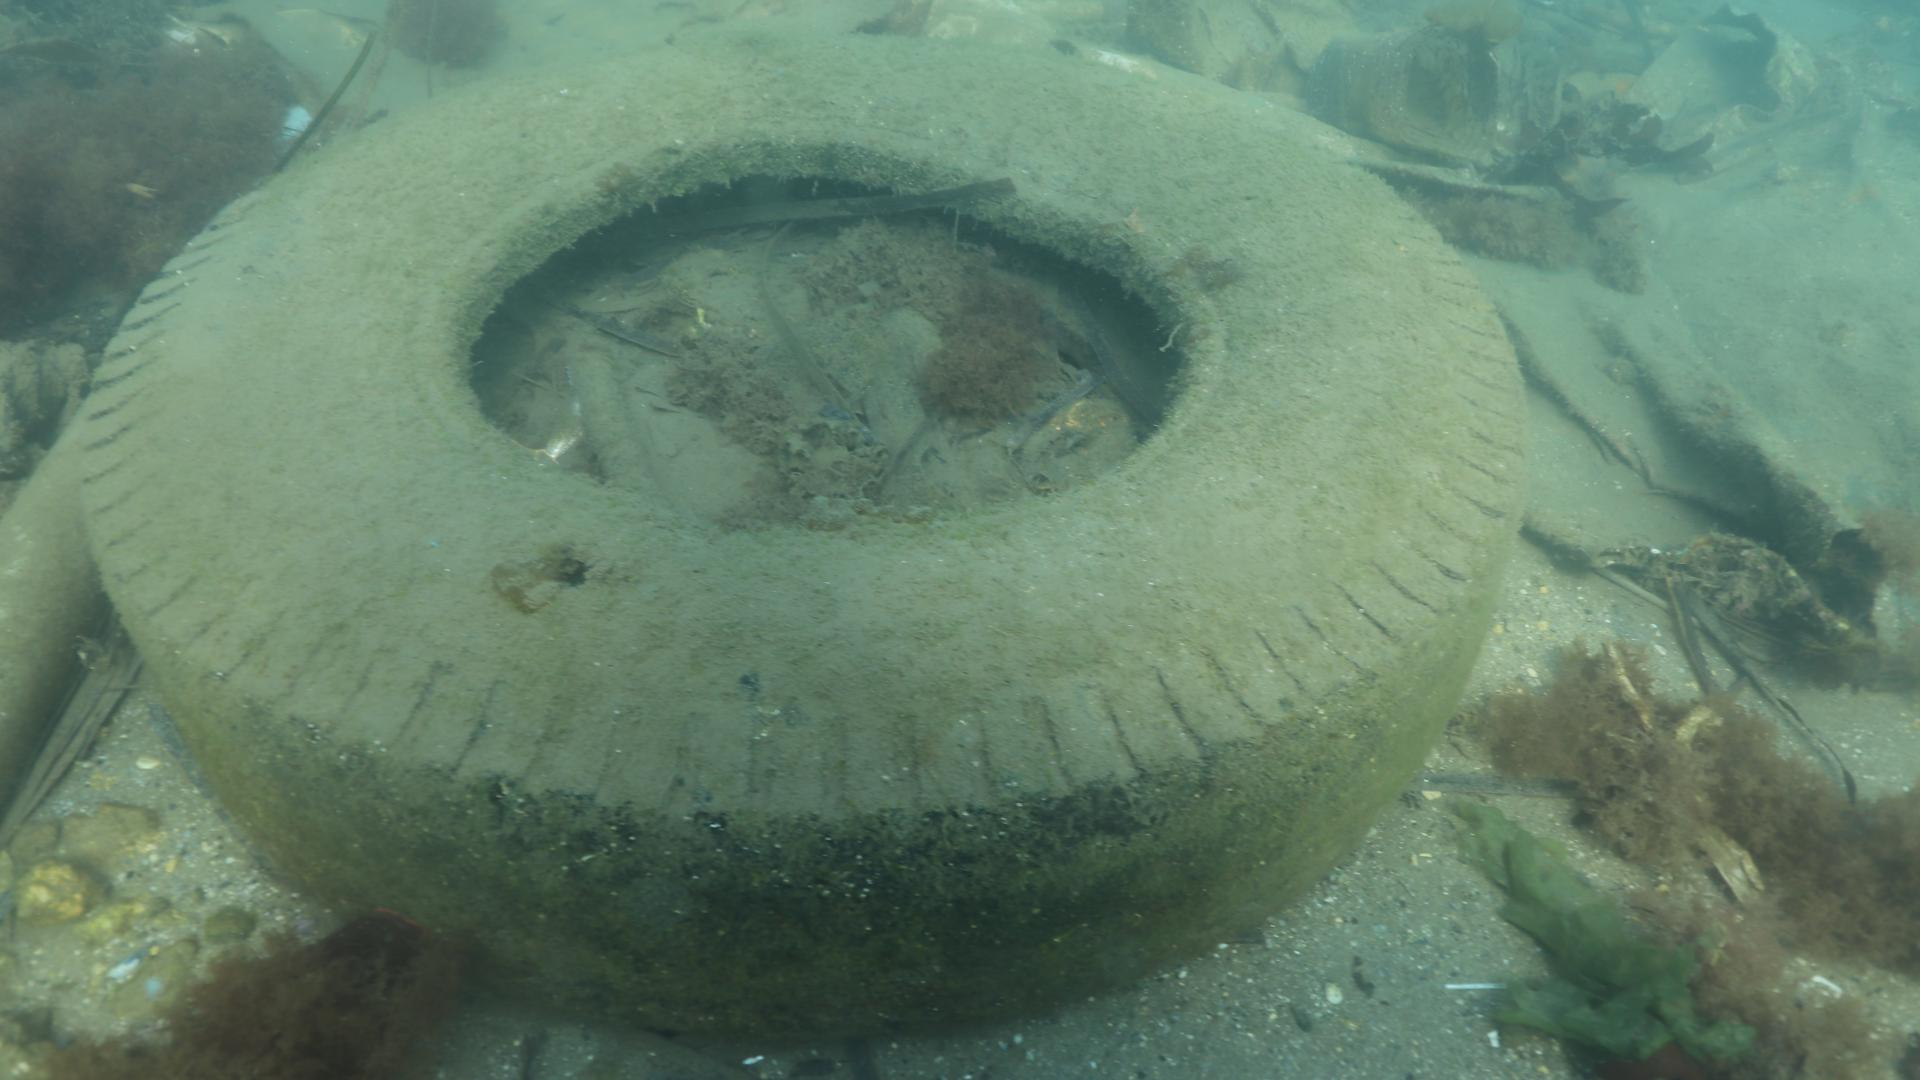tire: (79, 30, 1528, 1048)
